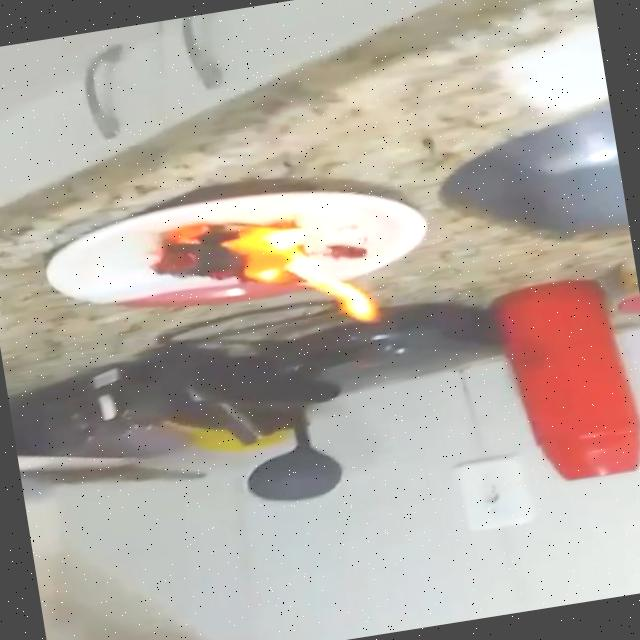fire: (142, 194, 385, 359)
